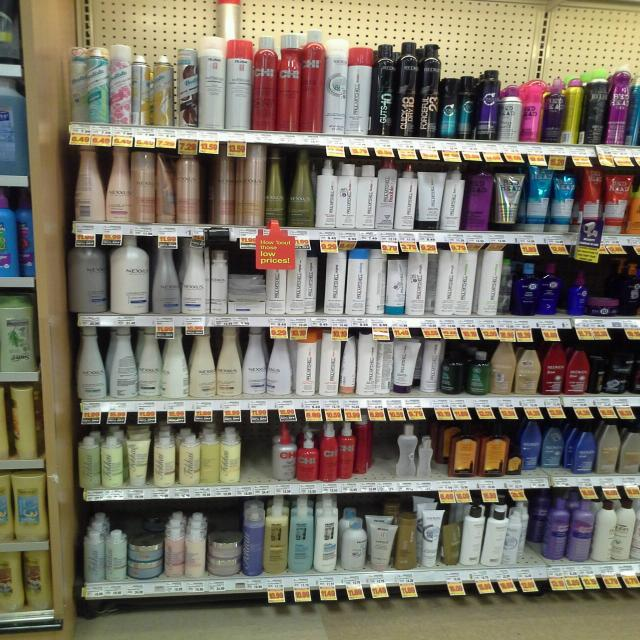empty: (240, 423, 278, 497), (373, 426, 399, 488)
